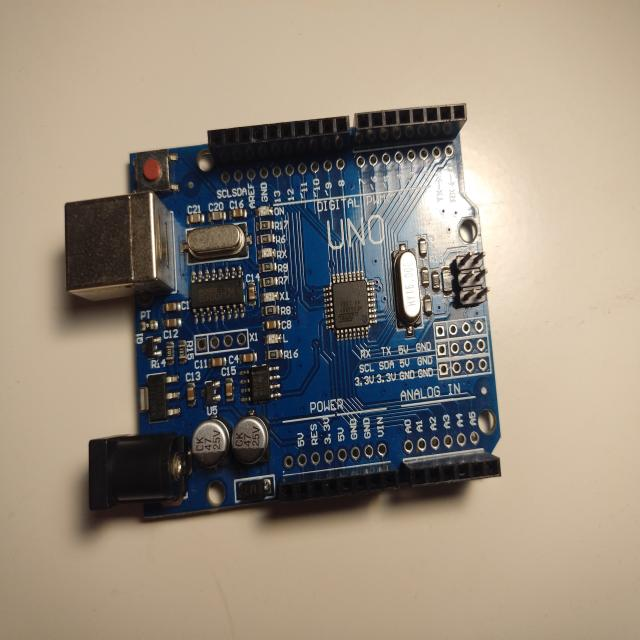arduino: (57, 96, 517, 524)
